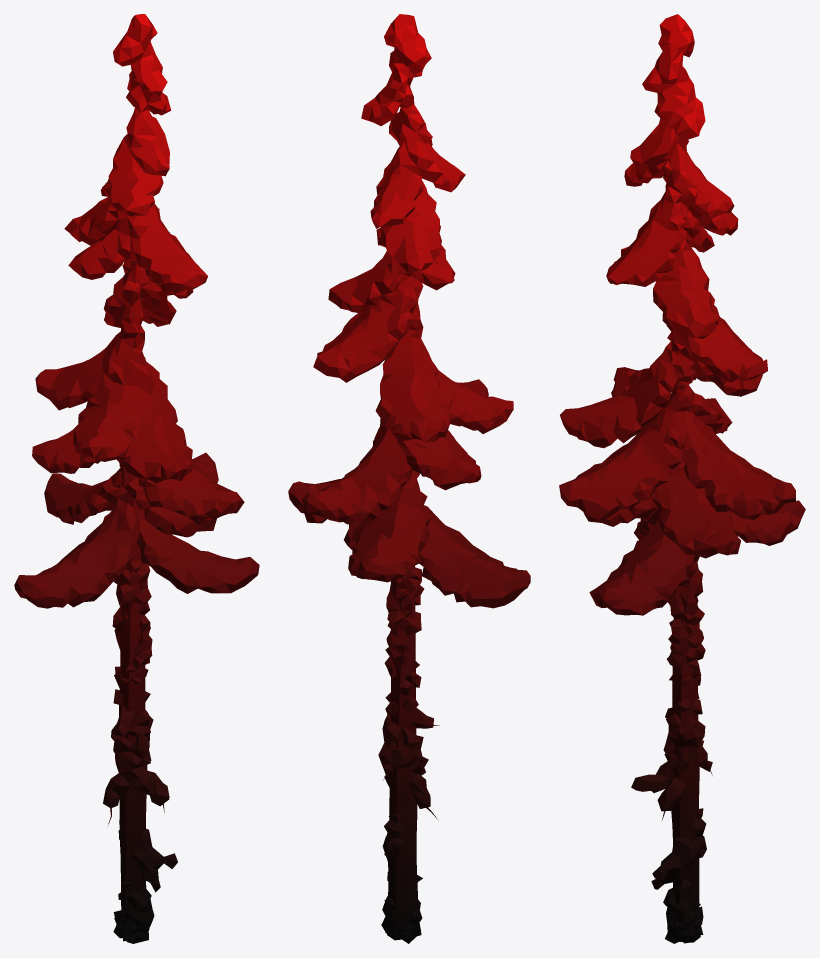
The model's file is TreeSpruceTall09_Snow.fbx.
3 views of the same model, side by side, from view 1: azimuth 30°, elevation 25°; view 2: azimuth 150°, elevation 25°; view 3: azimuth 270°, elevation 25° (orthographic).
Parts seen in each view (by area): view 1: TreeSpruceTall09_Snow_LOD0; view 2: TreeSpruceTall09_Snow_LOD0; view 3: TreeSpruceTall09_Snow_LOD0.
Part boxes in pixels (x1=…): TreeSpruceTall09_Snow_LOD0: x1=14, y1=14, x2=259, y2=943; TreeSpruceTall09_Snow_LOD0: x1=288, y1=14, x2=530, y2=943; TreeSpruceTall09_Snow_LOD0: x1=559, y1=14, x2=805, y2=943.
Size of what is drawn, in the model's own units: 506 by 2045 by 494.
